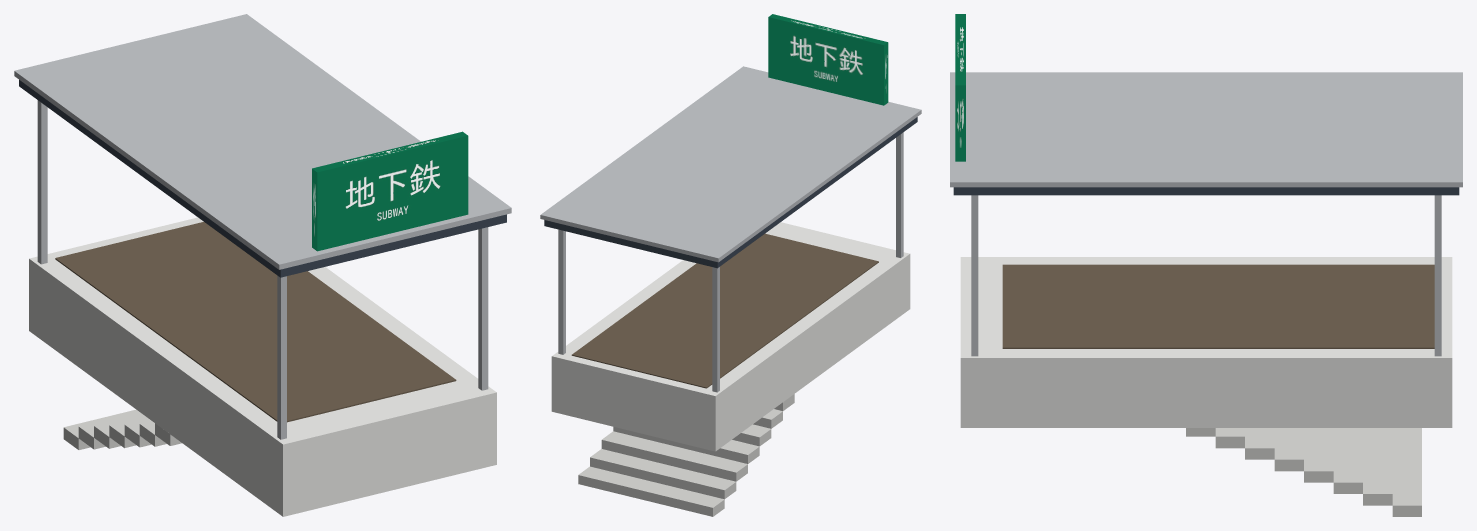
File: subway_entrance.glb
3 renders of one model, left to right at view 1: azimuth 30°, elevation 25°; view 2: azimuth 150°, elevation 25°; view 3: azimuth 270°, elevation 25°, orthographic. The views are drawn at different scales.
Visible parts, largest first — view 1: subway_entrance; view 2: subway_entrance; view 3: subway_entrance.
Boxes of the visible parts, box(x1,y1,x2,y2) form: subway_entrance: box(14, 14, 511, 516); subway_entrance: box(540, 14, 921, 516); subway_entrance: box(950, 14, 1462, 516).
Size of the model in its own units: 3.7 by 6.69 by 7.3.
6 materials, 1 textured.
